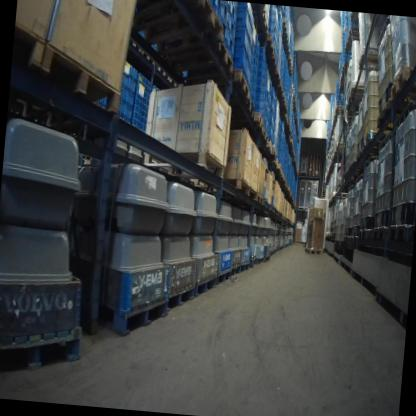pallet: (38, 40, 126, 117), (0, 318, 85, 394), (130, 0, 227, 43), (97, 291, 168, 342), (153, 33, 235, 73), (12, 18, 46, 71), (164, 279, 197, 314), (389, 65, 416, 105), (229, 70, 251, 102), (226, 95, 255, 119), (195, 270, 218, 299), (216, 264, 232, 287), (251, 111, 265, 133), (140, 49, 155, 67), (266, 33, 277, 56), (265, 52, 279, 70), (260, 11, 270, 35), (258, 139, 273, 154), (347, 27, 360, 43), (129, 37, 142, 53), (156, 67, 170, 81), (281, 31, 291, 50), (334, 141, 347, 154), (304, 247, 323, 255), (232, 261, 242, 275), (274, 68, 282, 85), (261, 126, 269, 142), (241, 259, 250, 273), (281, 17, 288, 35), (344, 40, 353, 54), (255, 254, 264, 265), (169, 78, 178, 89), (277, 82, 284, 95), (335, 105, 345, 114), (256, 194, 264, 205), (249, 257, 256, 269), (286, 55, 293, 67), (283, 101, 289, 113), (338, 83, 345, 93), (281, 92, 287, 103), (264, 254, 271, 263), (272, 158, 279, 167), (272, 148, 277, 160), (339, 74, 344, 85), (341, 63, 345, 76), (263, 200, 269, 208), (276, 163, 282, 171), (280, 173, 285, 181), (280, 169, 284, 176), (307, 167, 314, 171), (307, 163, 314, 167), (313, 171, 320, 174), (313, 175, 320, 178), (313, 173, 320, 176), (306, 174, 313, 177), (313, 169, 320, 172), (313, 167, 320, 170), (314, 165, 321, 168), (307, 165, 314, 168), (307, 160, 314, 163), (307, 171, 313, 174), (307, 169, 313, 172), (314, 163, 320, 166), (314, 162, 320, 165), (306, 173, 313, 175), (307, 162, 314, 164), (307, 159, 314, 161)
small_load_carrier: (231, 49, 249, 79), (235, 11, 252, 41), (233, 30, 250, 58), (211, 0, 225, 27), (236, 2, 253, 24), (226, 30, 236, 62), (221, 16, 230, 47), (229, 2, 238, 26), (228, 17, 237, 41), (248, 28, 255, 56), (247, 42, 254, 68), (129, 64, 139, 82), (223, 1, 231, 23), (250, 11, 257, 36), (125, 90, 135, 107), (127, 77, 136, 95), (246, 62, 252, 89), (124, 102, 134, 118), (120, 87, 128, 105), (253, 89, 265, 101), (254, 34, 261, 54), (123, 60, 131, 77), (253, 46, 260, 65), (118, 100, 126, 116), (122, 74, 130, 90), (269, 5, 277, 20), (269, 12, 276, 26), (268, 30, 275, 44), (253, 59, 259, 75), (263, 112, 268, 129), (251, 84, 257, 98), (252, 68, 258, 82), (250, 94, 256, 107), (252, 77, 258, 90), (265, 99, 269, 117), (269, 77, 273, 95), (266, 117, 270, 134), (267, 102, 271, 118), (268, 91, 272, 107), (280, 121, 285, 133), (279, 133, 284, 144), (266, 88, 270, 101), (278, 143, 283, 153), (278, 153, 282, 164)
